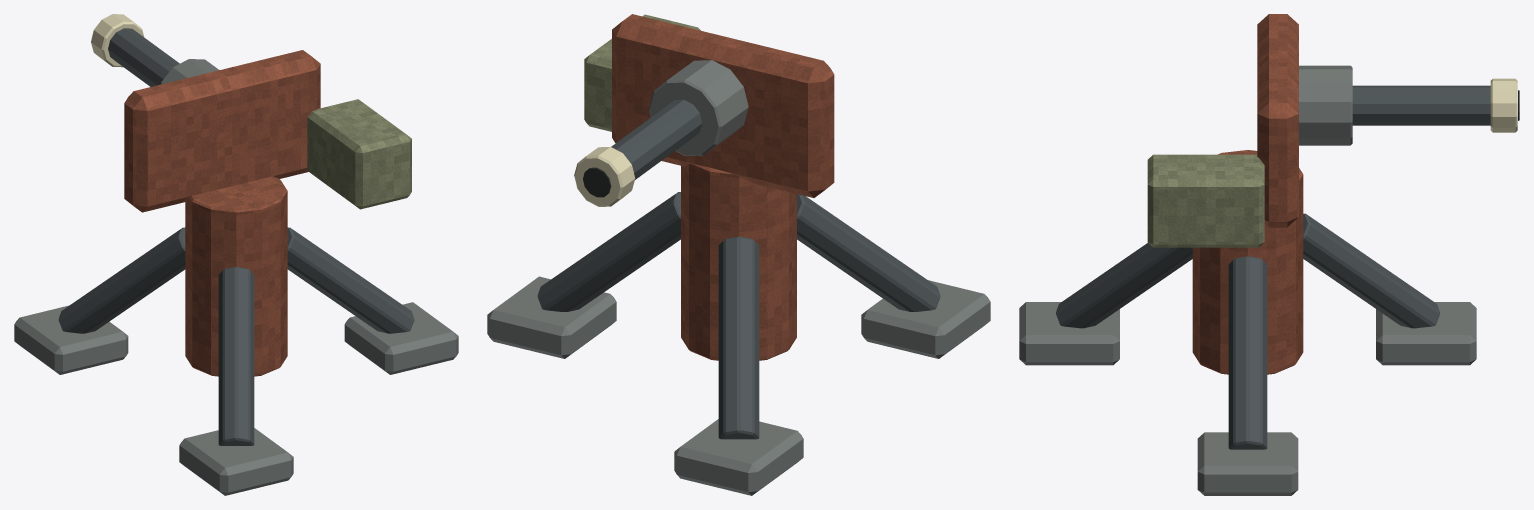
3 renders of one model, left to right at view 1: azimuth 30°, elevation 25°; view 2: azimuth 150°, elevation 25°; view 3: azimuth 270°, elevation 25°, orthographic. The views are drawn at different scales.
Visible parts, largest first — view 1: ST2-E05_Mesh, TurretYaw_Mesh, BarrelRecoil_Mesh; view 2: ST2-E05_Mesh, TurretYaw_Mesh, BarrelRecoil_Mesh; view 3: ST2-E05_Mesh, TurretYaw_Mesh, BarrelRecoil_Mesh.
Part boxes in pixels (x1,y1,x2,y2): ST2-E05_Mesh: [14, 176, 458, 495]; TurretYaw_Mesh: [124, 50, 411, 212]; BarrelRecoil_Mesh: [91, 14, 219, 86]; ST2-E05_Mesh: [487, 164, 990, 495]; TurretYaw_Mesh: [584, 14, 834, 197]; BarrelRecoil_Mesh: [574, 60, 748, 206]; ST2-E05_Mesh: [1019, 150, 1476, 495]; TurretYaw_Mesh: [1147, 14, 1298, 247]; BarrelRecoil_Mesh: [1299, 65, 1519, 145].
Bounding box in the file's own units: 2.4 × 2.2 × 2.99.
6 materials, 2 textured.
